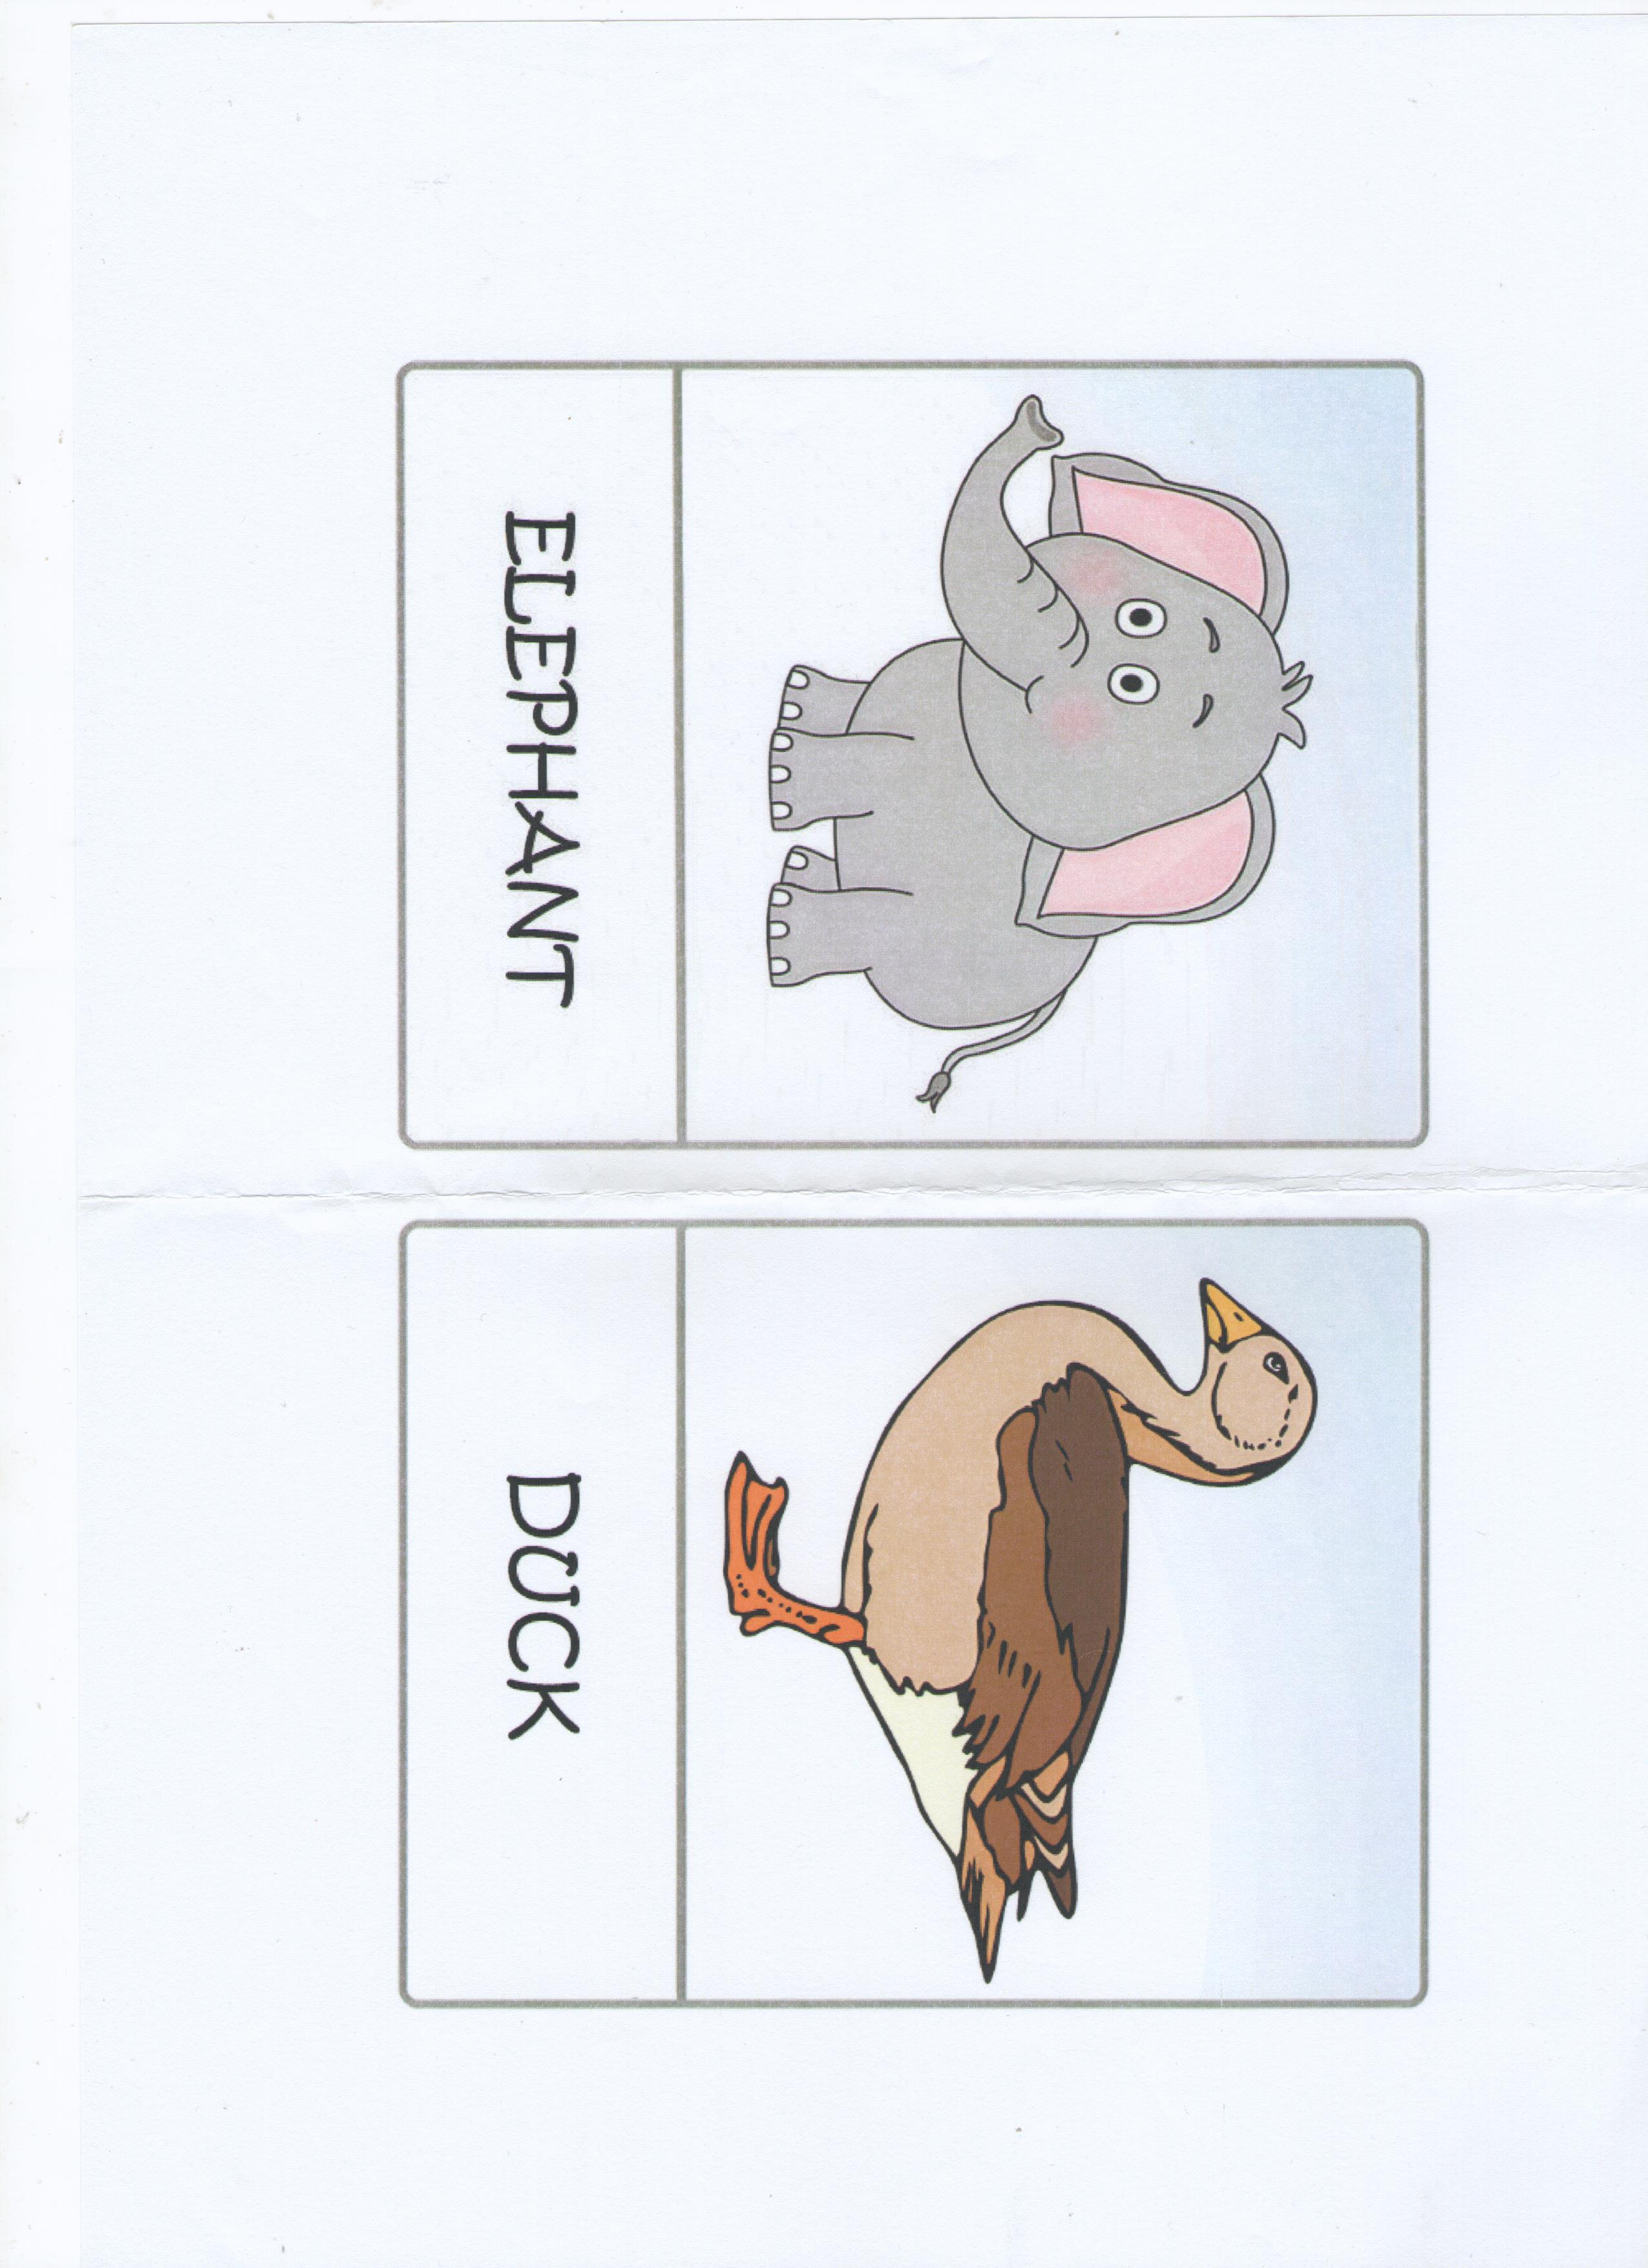elefante: (427, 375, 1351, 1124)
papera: (424, 1246, 1379, 1979)
